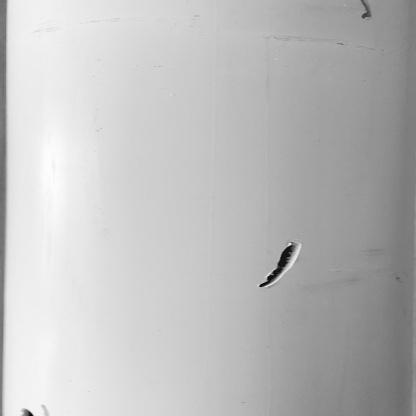kongdong: (256, 230, 309, 298)
